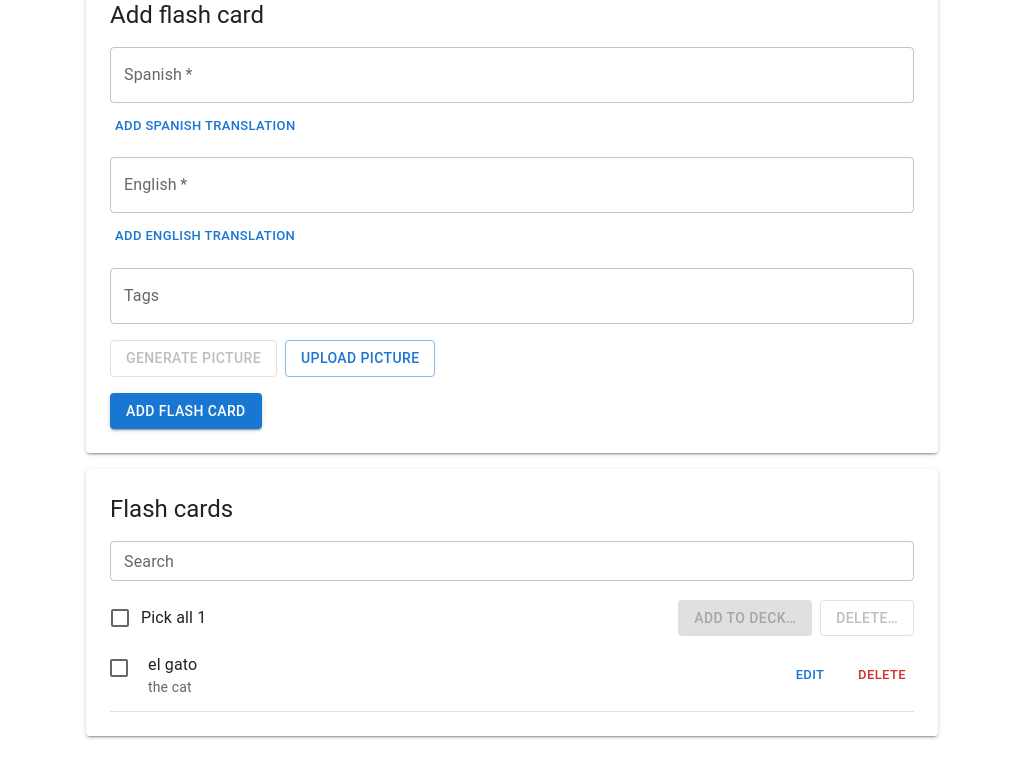
deleting a card › shows an error and keeps the card when deleting fails
(page scrolled)
Expected: the text "el gato" is shown, [148, 655, 197, 674]
Click the button named "Delete \"el gato\"": (882, 675) [850, 660, 914, 690]
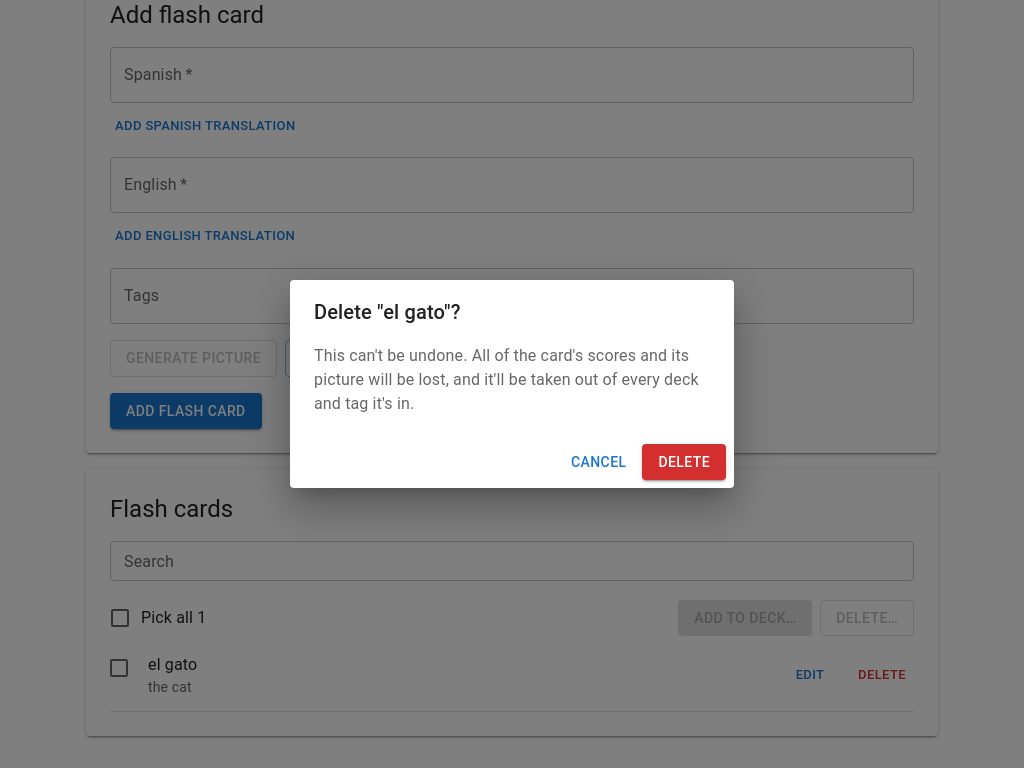
Click the button "Delete": (684, 462) [642, 444, 726, 480]
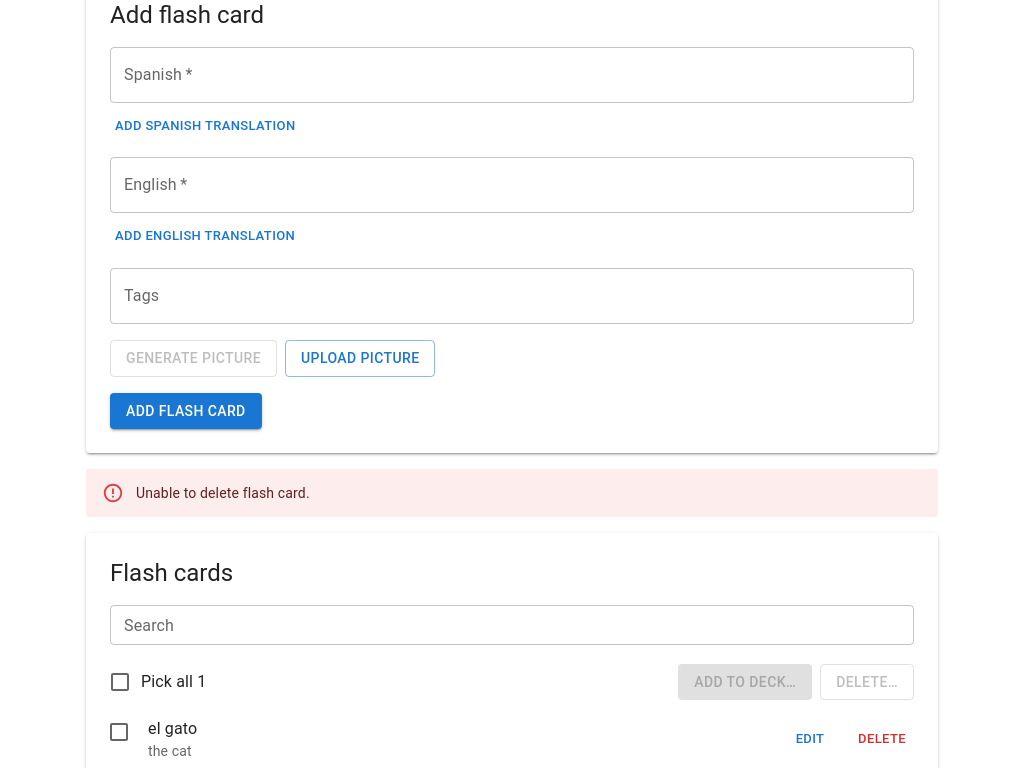
Expected: the text "el gato" is shown, [148, 719, 197, 738]
Expected: the message reads "Unable to delete flash card.", [136, 485, 310, 501]
